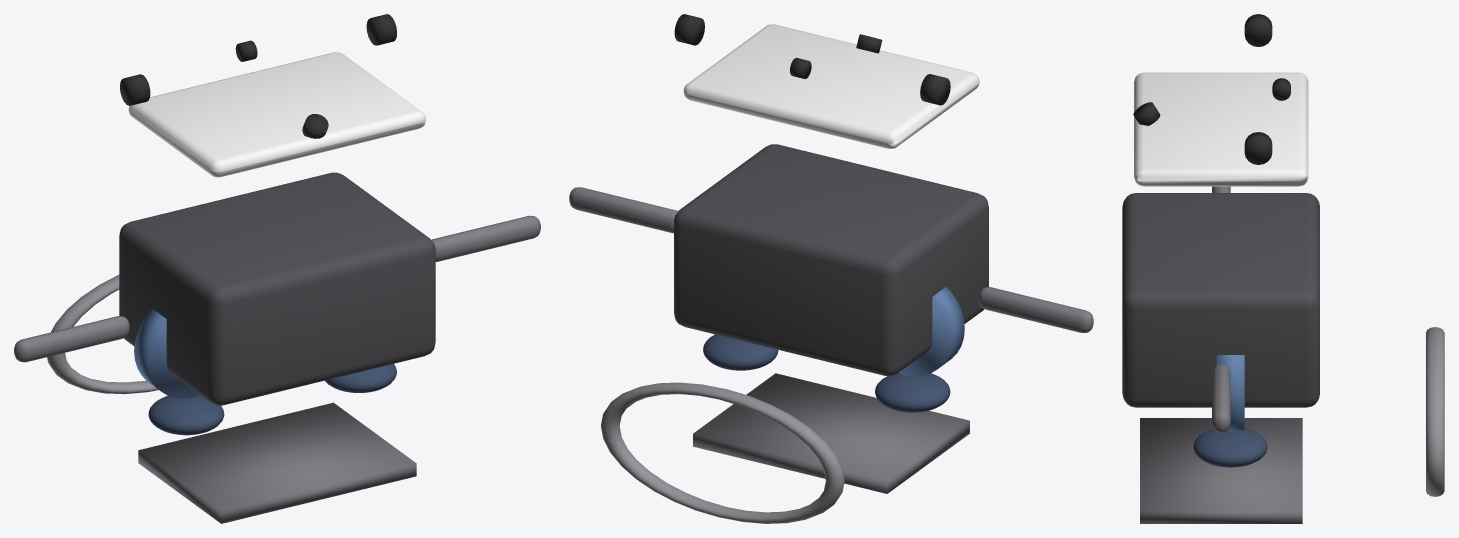
Rendered from quest3_model.glb.
The picture shows the model from 3 angles, left to right: view 1: azimuth 30°, elevation 25°; view 2: azimuth 150°, elevation 25°; view 3: azimuth 270°, elevation 25°; orthographic projection. The views are drawn at different scales.
Parts seen in each view (by area): view 1: 主机身, 前面板, 面罩海绵, 左头带臂, 头带, 左透镜模组, 右头带臂, 左透镜, 右透镜, 左摄像头, 右摄像头; view 2: 主机身, 前面板, 面罩海绵, 头带, 左头带臂, 左透镜模组, 右头带臂, 左透镜, 右透镜, 左摄像头, 右摄像头; view 3: 主机身, 前面板, 面罩海绵, 头带, 右透镜, 右透镜模组, 右头带臂, 右摄像头, 左摄像头, 下置追踪摄像头.
Boxes of the visible parts, x1,y1,x2,y2 form: 主机身: (119,172,435,405); 前面板: (128,52,426,177); 面罩海绵: (138,402,416,523); 左头带臂: (14,316,129,362); 头带: (47,275,158,394); 左透镜模组: (134,309,200,398); 右头带臂: (431,215,540,261); 左透镜: (148,395,224,435); 右透镜: (325,364,396,392); 左摄像头: (120,74,150,105); 右摄像头: (366,14,396,45); 主机身: (674,144,988,375); 前面板: (683,24,979,148); 面罩海绵: (693,373,969,493); 头带: (600,382,844,523); 左头带臂: (978,287,1093,332); 左透镜模组: (898,286,964,376); 右头带臂: (569,187,678,233); 左透镜: (875,373,950,412); 右透镜: (703,334,778,370); 左摄像头: (920,74,950,105); 右摄像头: (674,14,704,45); 主机身: (1122,193,1319,407); 前面板: (1134,72,1308,186); 面罩海绵: (1140,418,1302,523); 头带: (1426,327,1444,496); 右透镜: (1193,428,1267,467); 右透镜模组: (1216,355,1244,430); 右头带臂: (1212,364,1230,432); 右摄像头: (1244,132,1272,164); 左摄像头: (1244,14,1272,46); 下置追踪摄像头: (1133,102,1160,125).
Size of the model in its own units: 1.28 by 0.95 by 0.6925.
